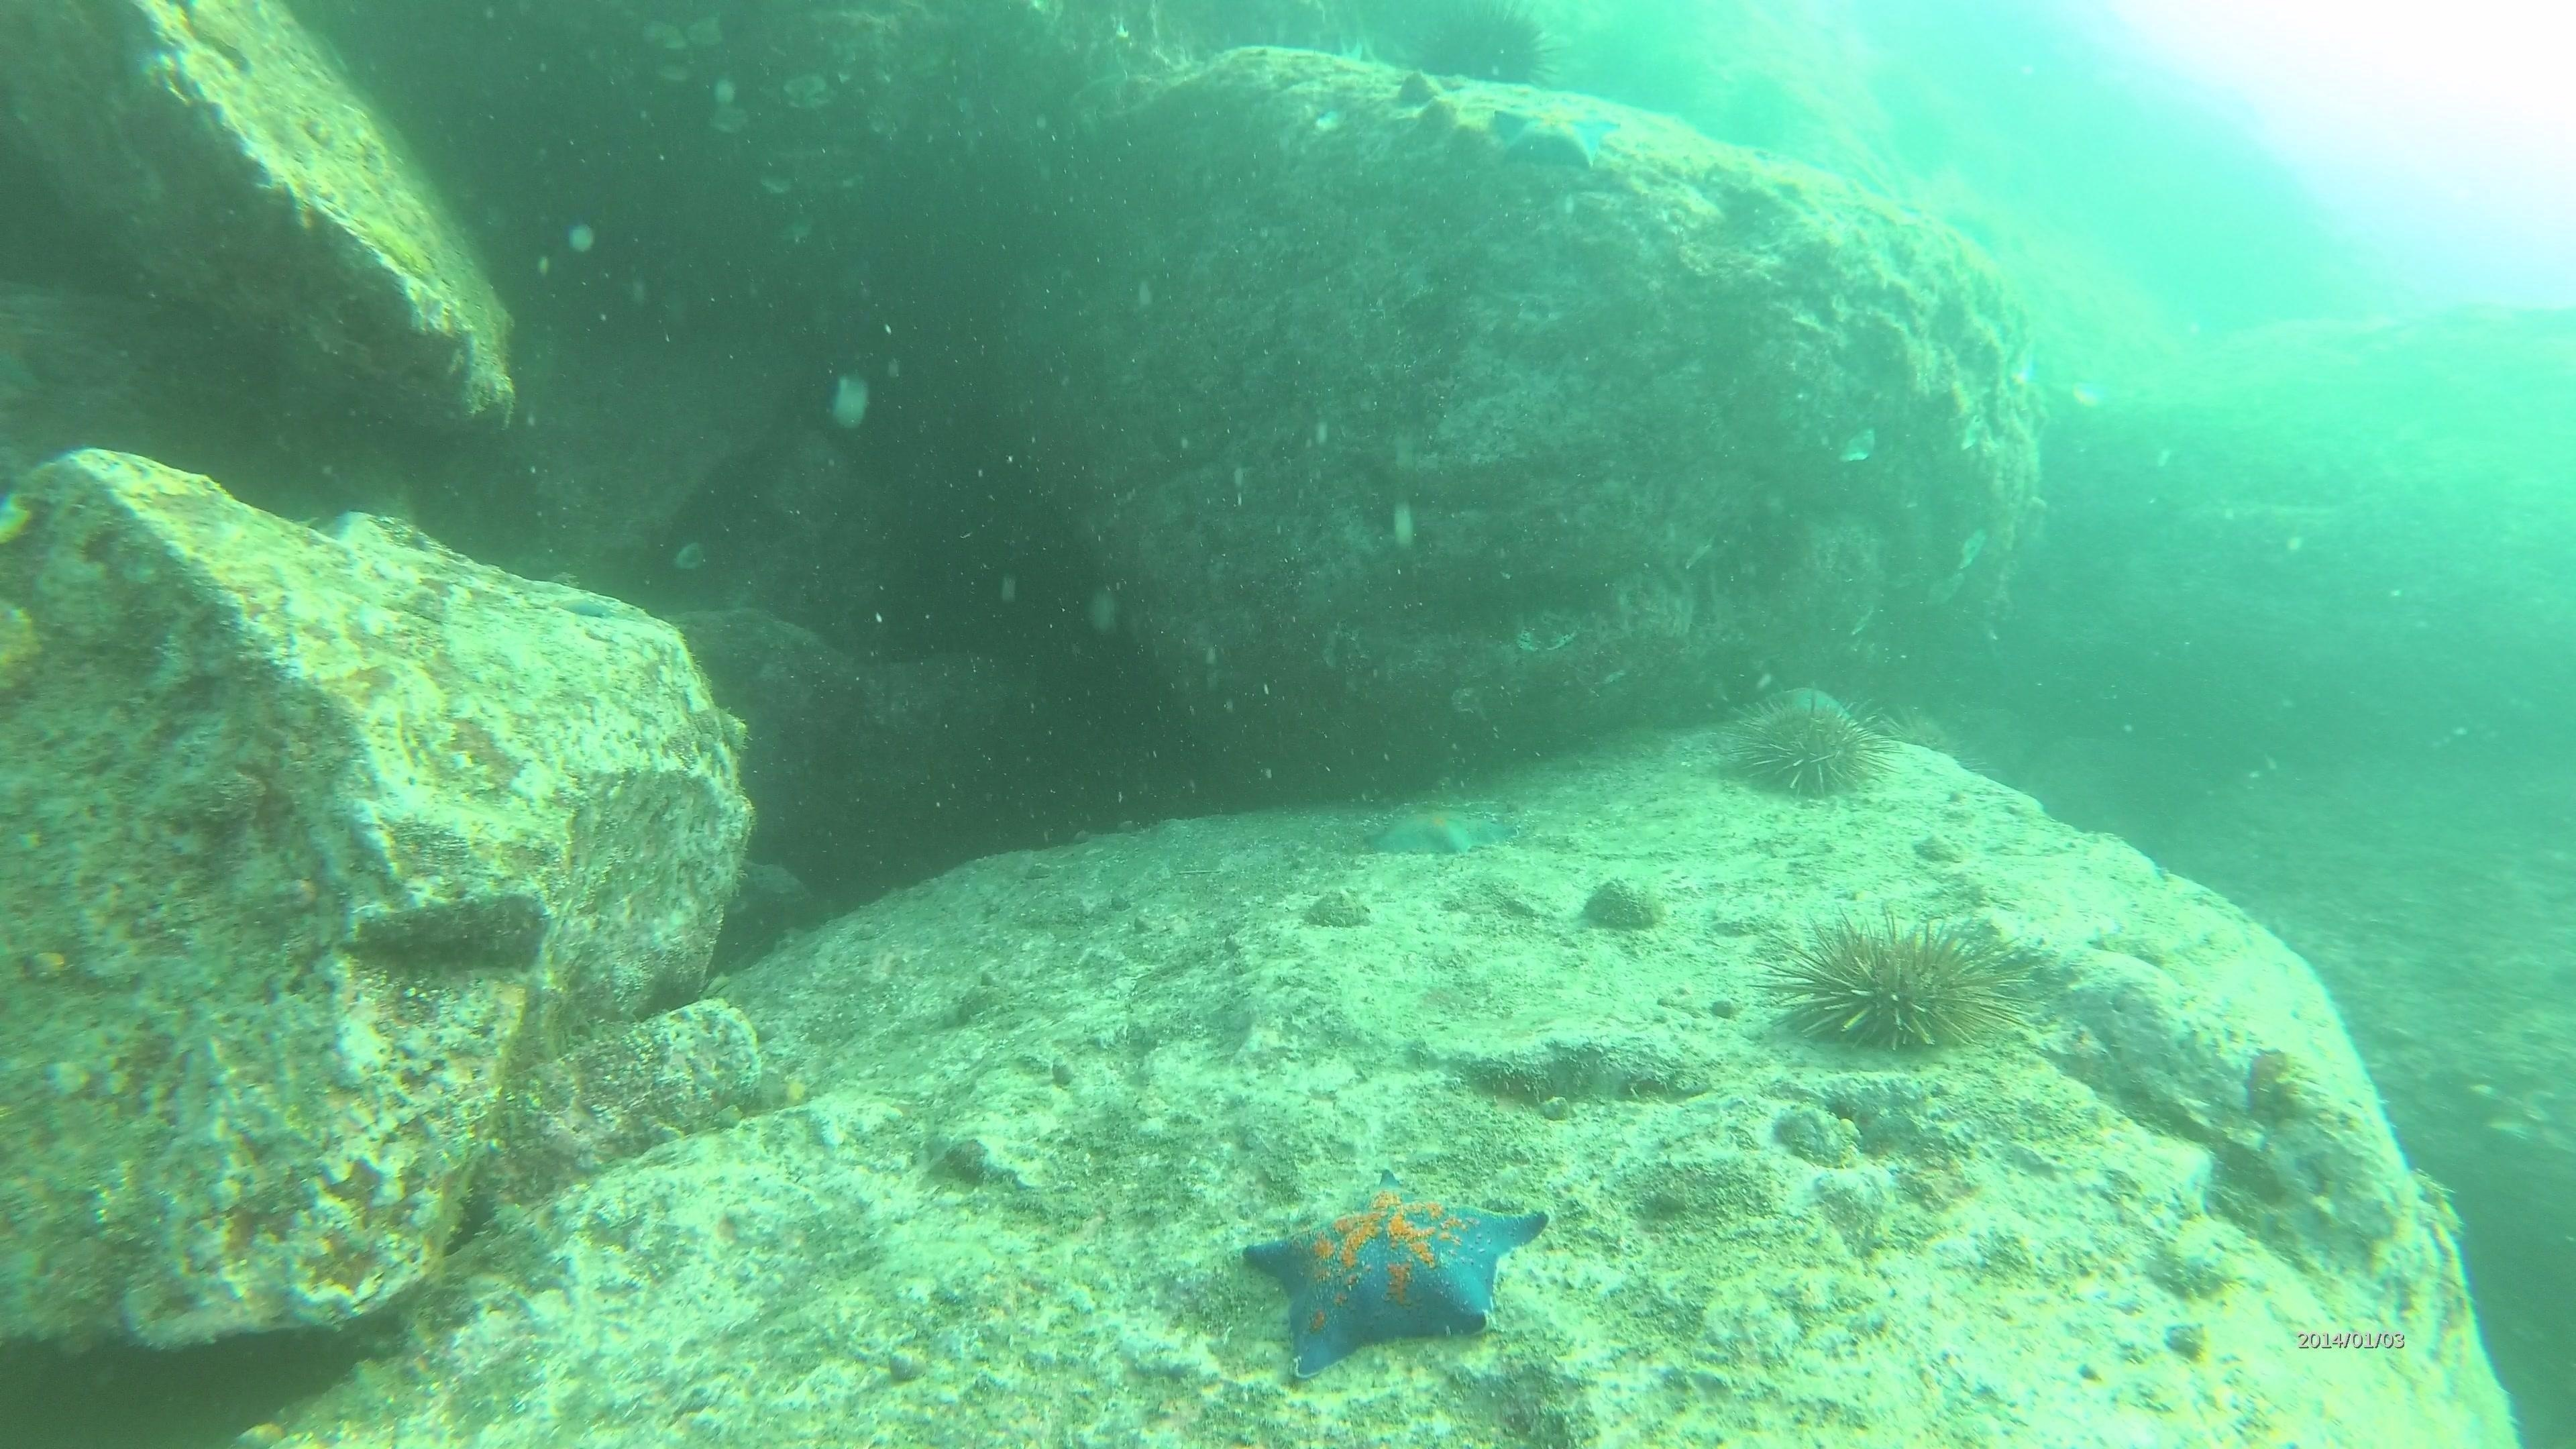echinus: (1773, 909, 2017, 1069), (1718, 683, 1893, 810), (1407, 4, 1560, 101)
starfish: (1235, 1169, 1553, 1380), (1484, 81, 1628, 179), (1362, 793, 1520, 865)
